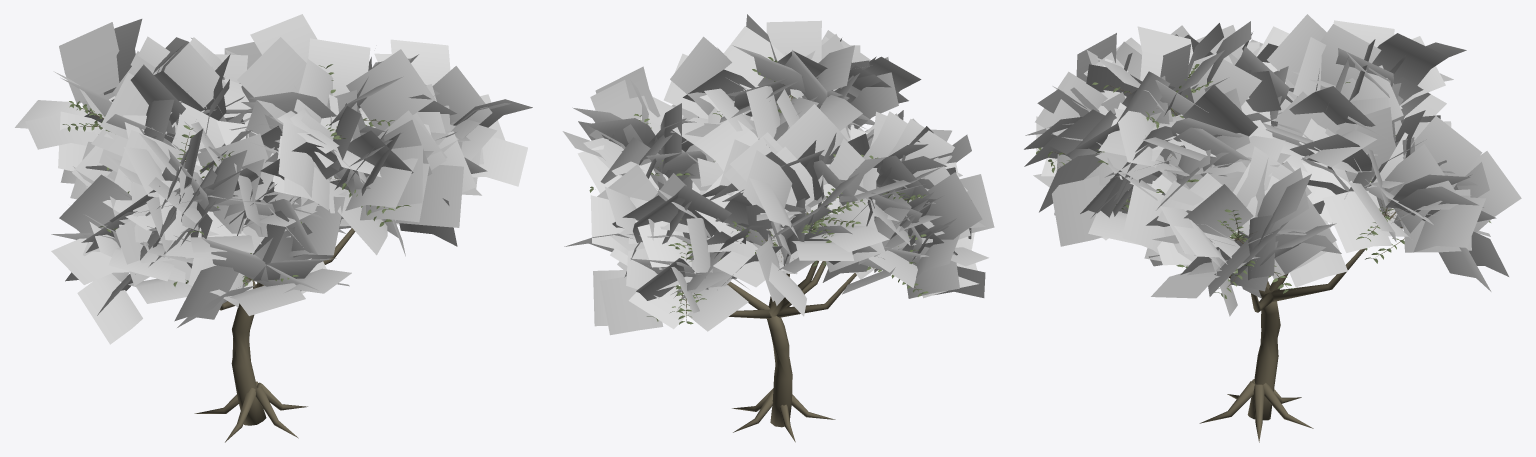
File: Oleastre_Dense_LOD0.fbx
3 renders of one model, left to right at view 1: azimuth 30°, elevation 25°; view 2: azimuth 150°, elevation 25°; view 3: azimuth 270°, elevation 25°, orthographic. The views are drawn at different scales.
Visible parts, largest first — view 1: Oleastre_Dense; view 2: Oleastre_Dense; view 3: Oleastre_Dense.
Boxes of the visible parts, <box> form: Oleastre_Dense: <box>15,14,532,442</box>; Oleastre_Dense: <box>562,14,994,442</box>; Oleastre_Dense: <box>1024,14,1521,442</box>.
Size of the model in its own units: 548 by 464 by 521.
